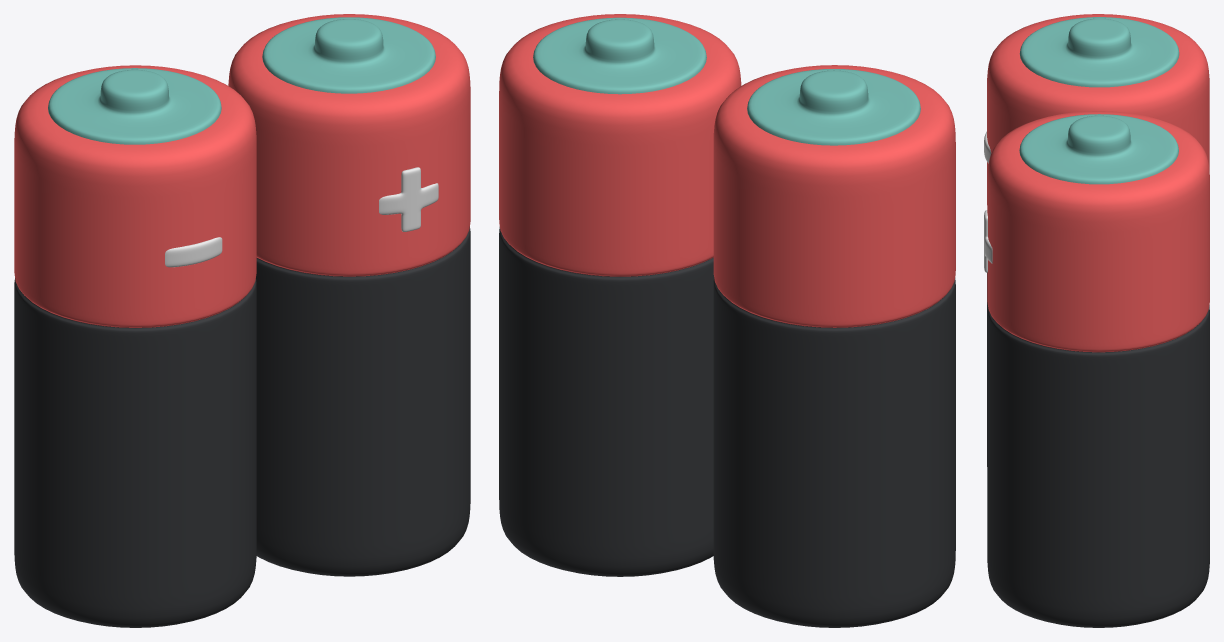
Rendered from Batteries_01.fbx.
The picture shows the model from 3 angles, left to right: view 1: azimuth 30°, elevation 25°; view 2: azimuth 150°, elevation 25°; view 3: azimuth 270°, elevation 25°; orthographic projection. The views are drawn at different scales.
Visible parts, largest first — view 1: Batery_+, Batery_-, -_caps, +_caps, Game_icons_batteries.006, Game_icons_batteries; view 2: Batery_+, Batery_-, -_caps, +_caps; view 3: Batery_-, Batery_+, -_caps, +_caps, Game_icons_batteries.006.
Part boxes in pixels (box(x1,y1,x2,y2)): Batery_+: box(14, 65, 256, 627); Batery_-: box(228, 14, 470, 576); -_caps: box(48, 68, 221, 144); +_caps: box(262, 17, 435, 93); Game_icons_batteries.006: box(379, 167, 438, 231); Game_icons_batteries: box(165, 237, 222, 267); Batery_+: box(713, 65, 955, 627); Batery_-: box(499, 14, 741, 576); -_caps: box(747, 69, 920, 145); +_caps: box(533, 17, 706, 94); Batery_-: box(987, 111, 1209, 627); Batery_+: box(987, 14, 1209, 466); -_caps: box(1019, 17, 1179, 87); +_caps: box(1019, 114, 1178, 184); Game_icons_batteries.006: box(984, 210, 992, 272).
Bounding box in the file's own units: 258 × 294 × 129.
